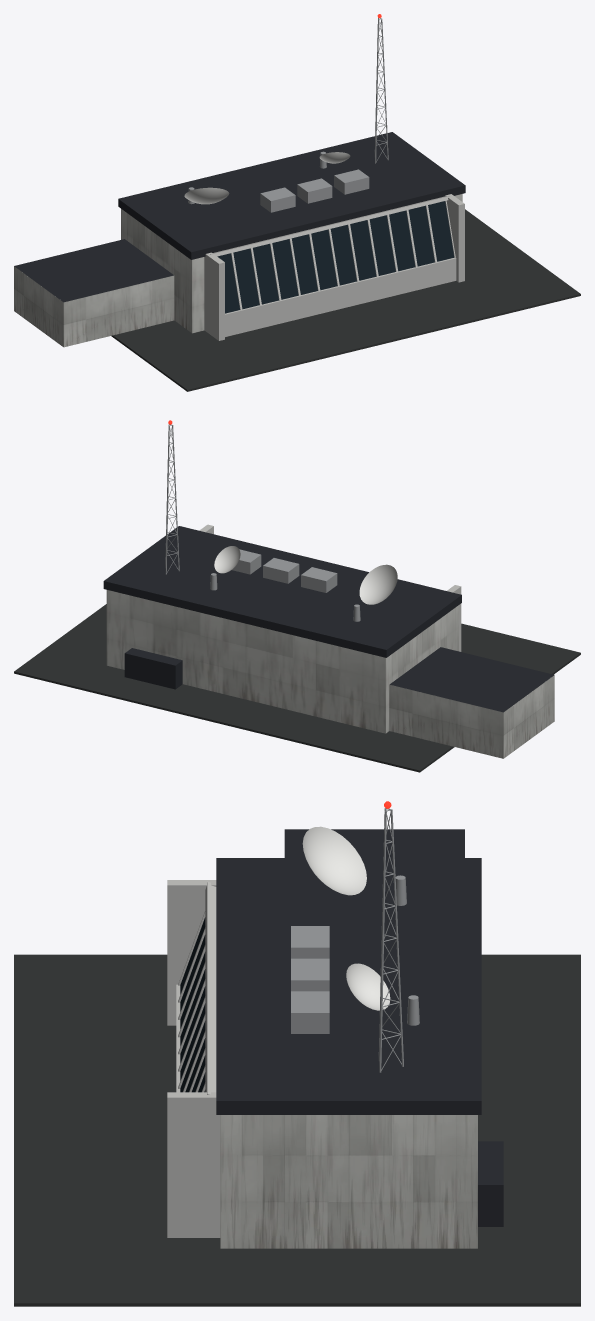
File: EA09_launch_control.glb
3 views of the same model, one above another, from view 1: azimuth 30°, elevation 25°; view 2: azimuth 150°, elevation 25°; view 3: azimuth 270°, elevation 25° (orthographic). The views are drawn at different scales.
Visible parts, largest first — view 1: forecourt, glass_wall, support_annex, main_block, dish_pedestal, dish; view 2: forecourt, main_block, support_annex, dish_pedestal, dish; view 3: forecourt, main_block, dish_pedestal, dish, glass_wall.
Part boxes in pixels (<box>): forecourt: <box>14,132,580,391</box>; glass_wall: <box>217,201,454,313</box>; support_annex: <box>14,266,174,347</box>; main_block: <box>121,194,462,333</box>; dish_pedestal: <box>188,18,388,212</box>; dish: <box>184,152,350,204</box>; forecourt: <box>14,524,580,772</box>; main_block: <box>106,590,458,733</box>; support_annex: <box>389,675,554,758</box>; dish_pedestal: <box>165,424,360,621</box>; dish: <box>214,546,397,604</box>; forecourt: <box>14,829,580,1306</box>; main_block: <box>220,1115,477,1248</box>; dish_pedestal: <box>291,808,419,1072</box>; dish: <box>302,826,390,1010</box>; glass_wall: <box>180,917,205,1092</box>.
Size of the model in its own units: 72 by 35.8 by 44.
7 materials, 2 textured.
